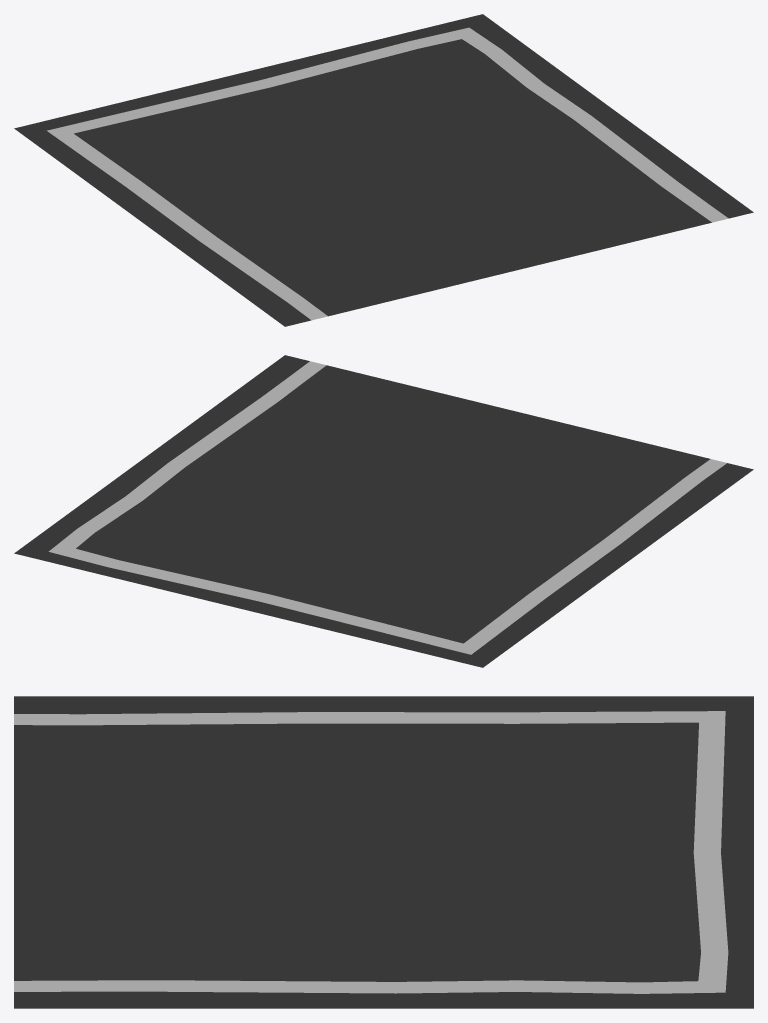
Rendered from M_CrossRoad700x700_02.fbx.
The picture shows the model from 3 angles, top to bottom: view 1: azimuth 30°, elevation 25°; view 2: azimuth 150°, elevation 25°; view 3: azimuth 270°, elevation 25°; orthographic projection. The views are drawn at different scales.
Visible parts, largest first — view 1: M_CrossRoad700x700_02; view 2: M_CrossRoad700x700_02; view 3: M_CrossRoad700x700_02.
Part boxes in pixels (box(x1,y1,x2,y2)): M_CrossRoad700x700_02: box(14, 14, 753, 326); M_CrossRoad700x700_02: box(14, 355, 753, 667); M_CrossRoad700x700_02: box(14, 696, 753, 1008).
Bounding box in the file's own units: 702 × 703 × 2.27e-21.
